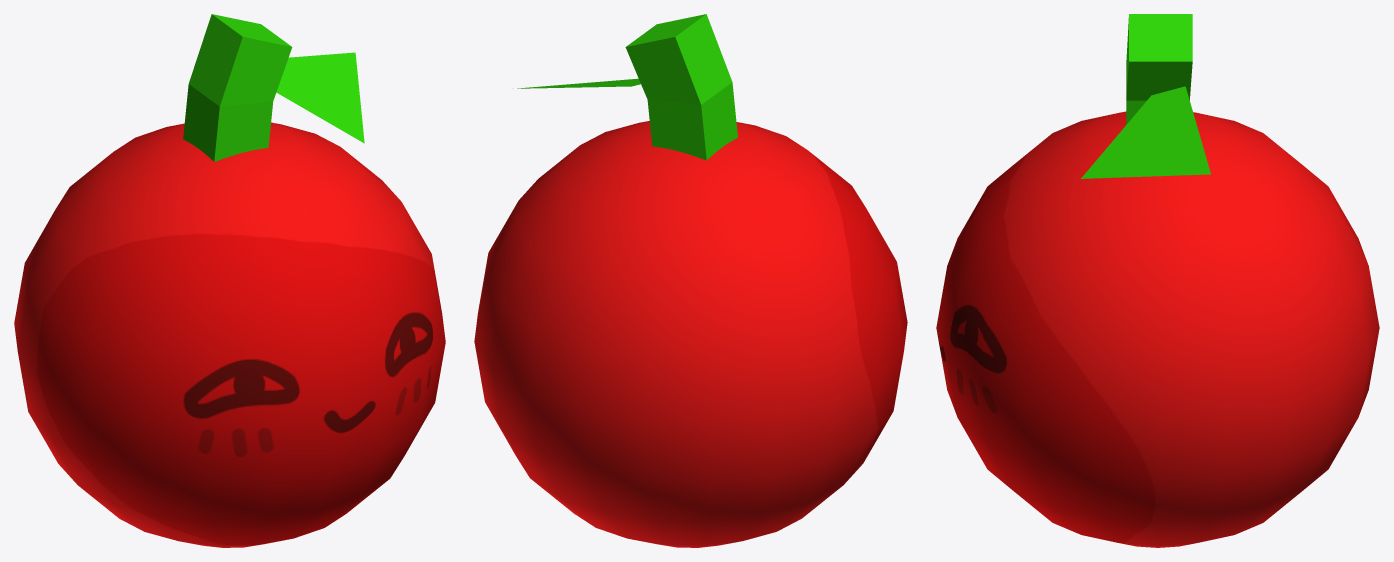
Rendered from fruit_0.glb.
The picture shows the model from 3 angles, left to right: view 1: azimuth 30°, elevation 25°; view 2: azimuth 150°, elevation 25°; view 3: azimuth 270°, elevation 25°; orthographic projection. The views are drawn at different scales.
Visible parts, largest first — view 1: 0_FRUIT; view 2: 0_FRUIT; view 3: 0_FRUIT.
Part boxes in pixels (left/top/right/bottom): 0_FRUIT: left=14, top=14, right=445, bottom=547; 0_FRUIT: left=474, top=14, right=907, bottom=547; 0_FRUIT: left=936, top=14, right=1379, bottom=547.
Bounding box in the file's own units: 2.11 × 2.7 × 2.11.
Materials: 2 (1 with a texture image).
